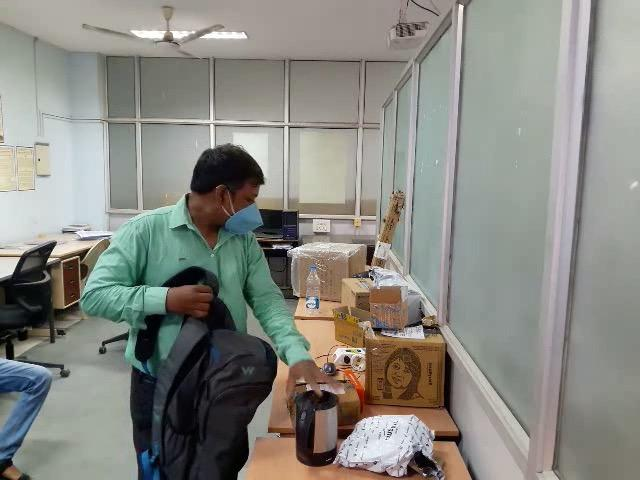shoplifting: (80, 257, 351, 480)
